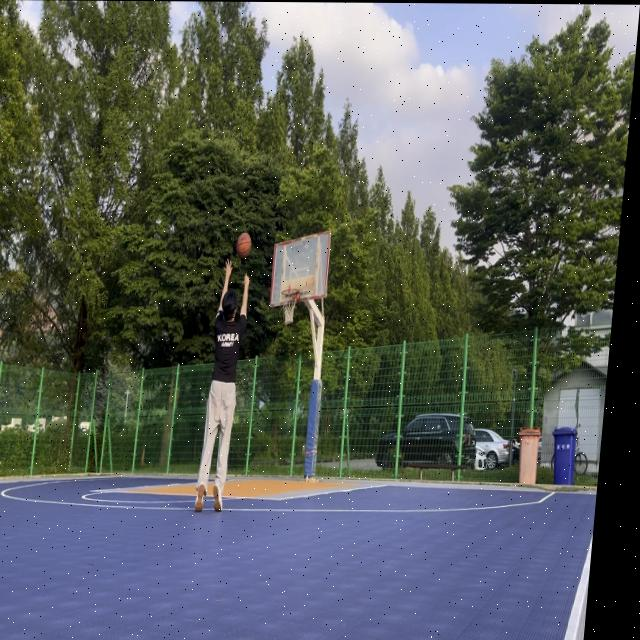basketball: (235, 231, 253, 260)
hoop: (278, 288, 300, 326)
